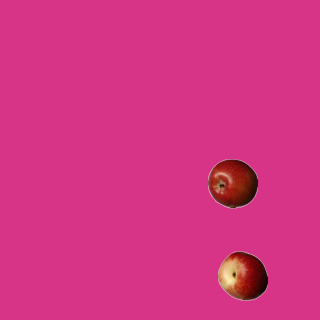Apple Braeburn: (207, 158, 257, 208)
Nectarine: (217, 250, 267, 300)
